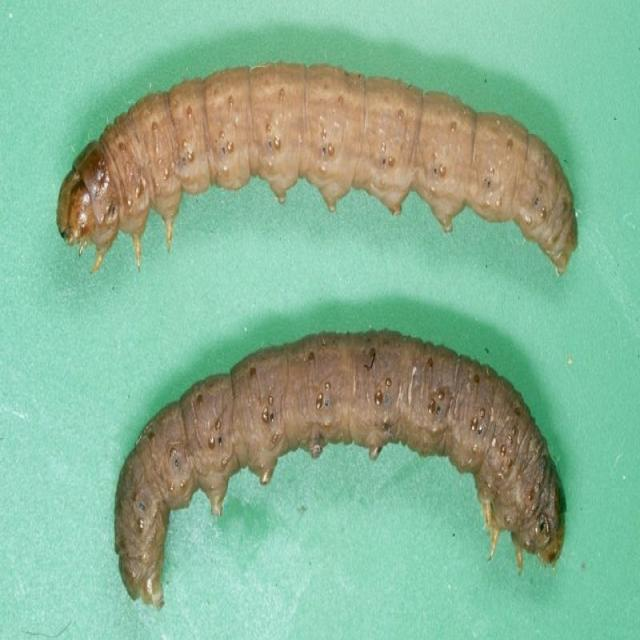worm: (114, 327, 567, 610), (57, 60, 580, 279)
